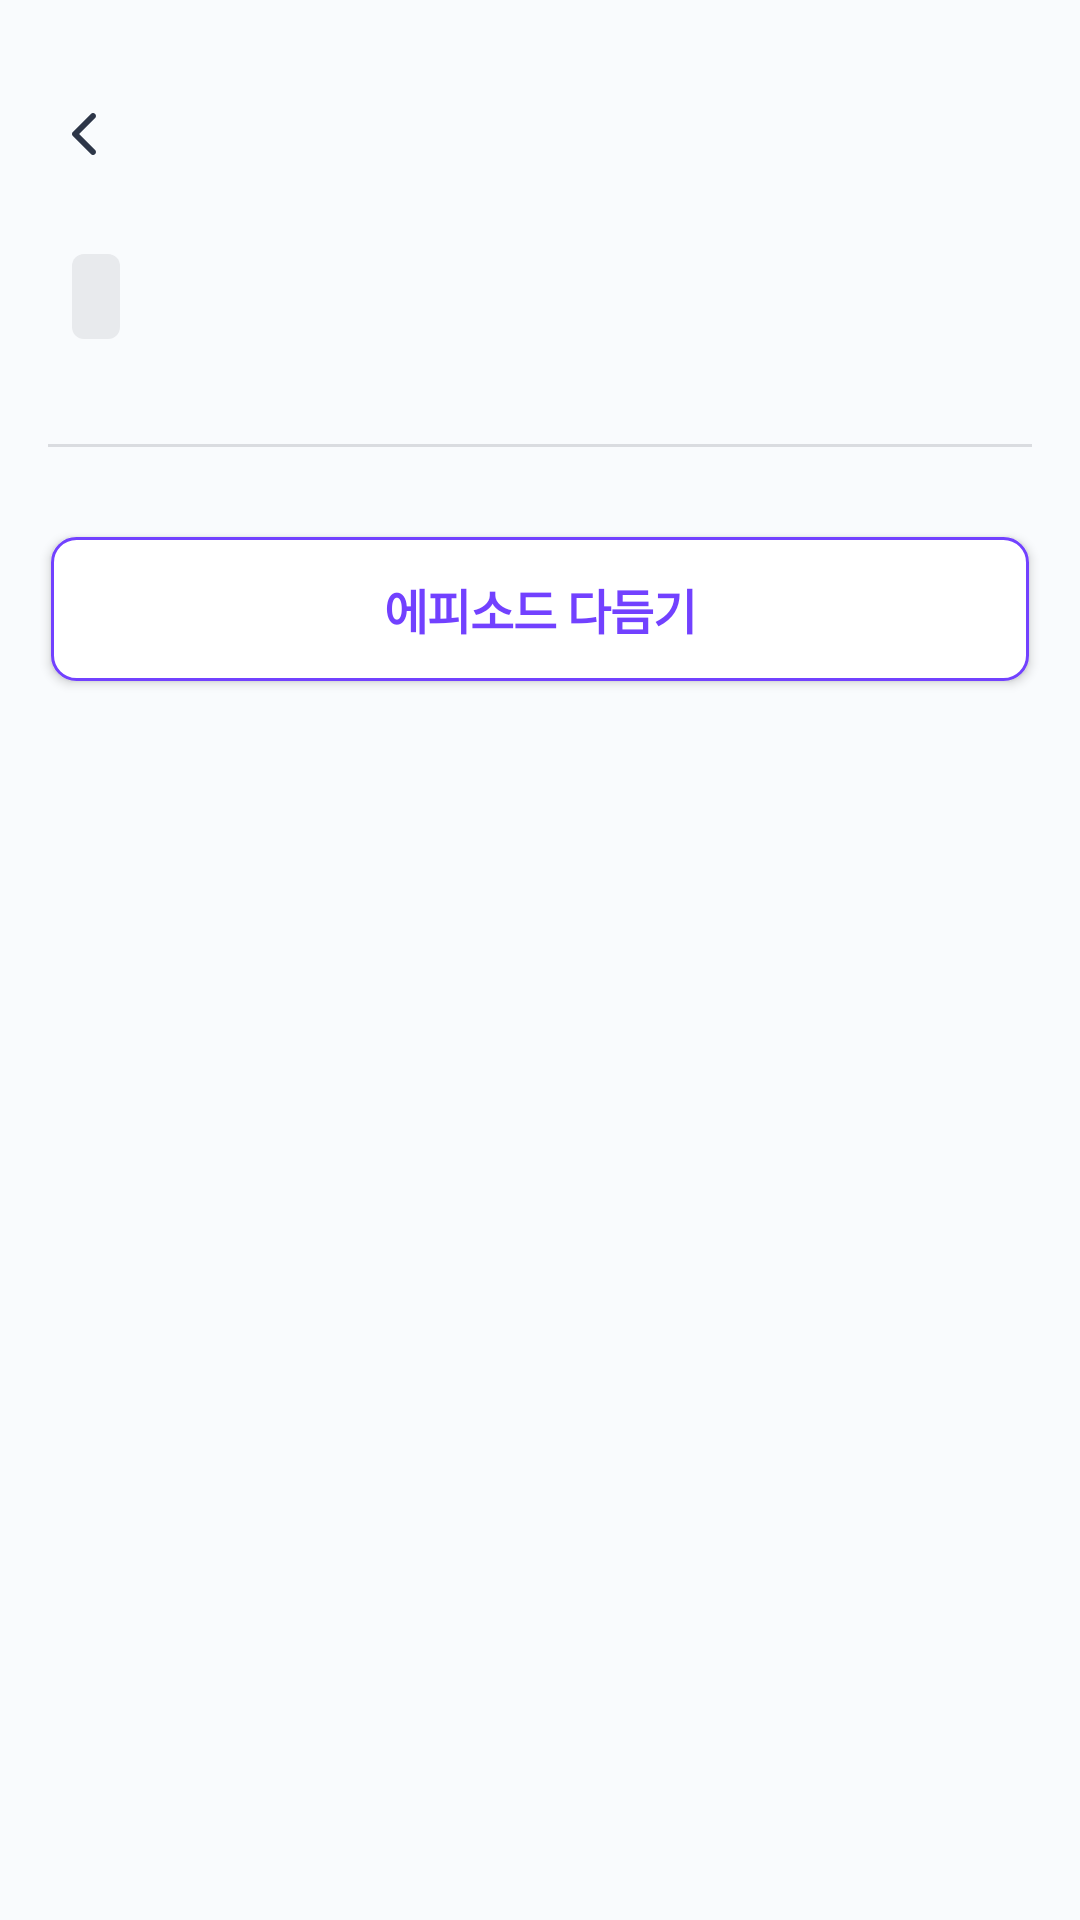

Named icons in this screenshot (1080w x 1920h) and their centers, (x,y):
arrow left: (84,134)
